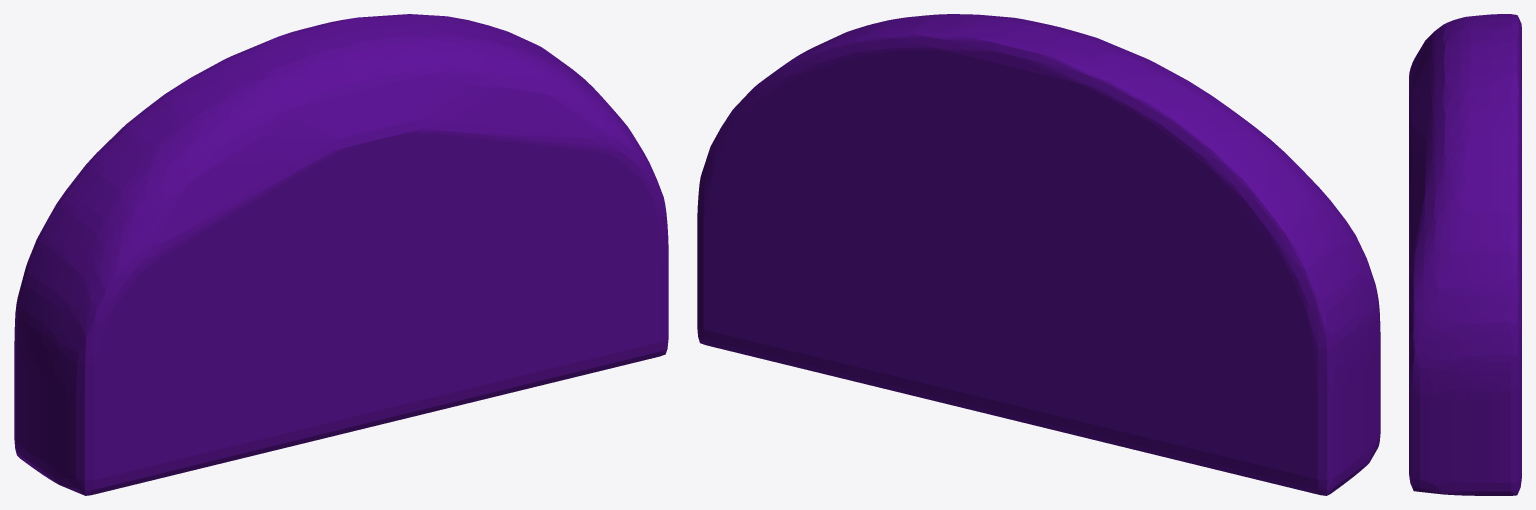
Rendered from pelvis_part_27.obj.
3 renders of one model, left to right at view 1: azimuth 30°, elevation 25°; view 2: azimuth 150°, elevation 25°; view 3: azimuth 270°, elevation 25°, orthographic. The views are drawn at different scales.
Size of the model in its own units: 0.1405 by 0.0792 by 0.0256.
